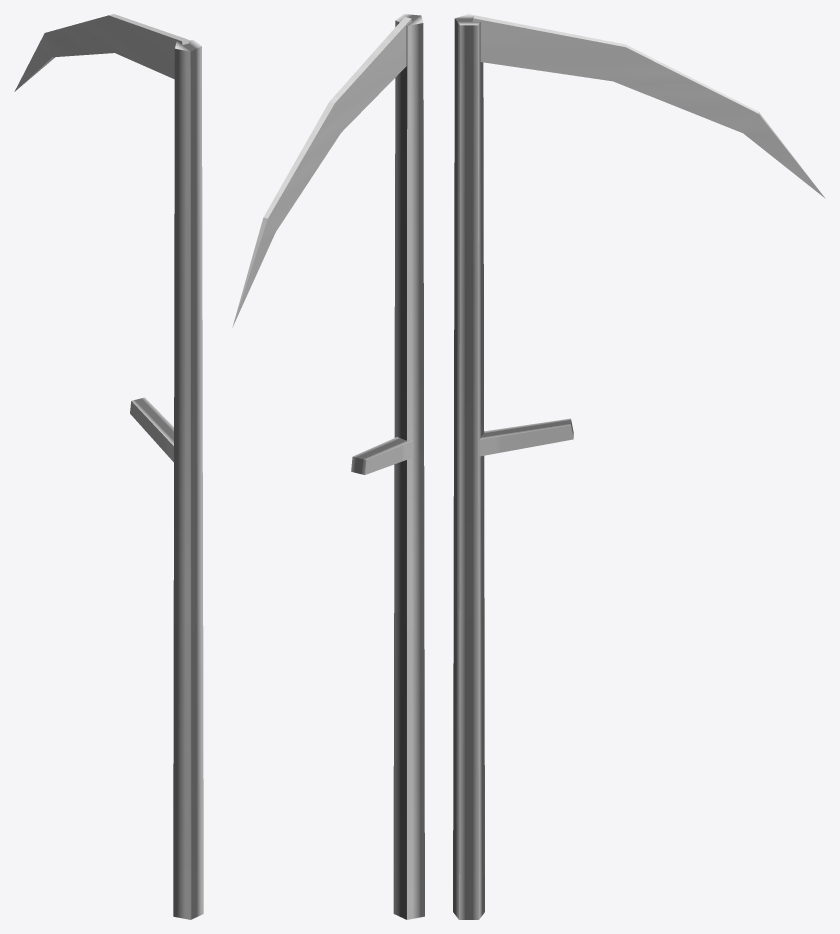
File: tool_scythe.obj
3 views of the same model, side by side, from view 1: azimuth 30°, elevation 25°; view 2: azimuth 150°, elevation 25°; view 3: azimuth 270°, elevation 25° (orthographic). The views are drawn at different scales.
Visible parts, largest first — view 1: tool_scythe; view 2: tool_scythe; view 3: tool_scythe.
Boxes of the visible parts, bbox=[...] form: tool_scythe: bbox=[14, 14, 203, 919]; tool_scythe: bbox=[232, 14, 424, 919]; tool_scythe: bbox=[453, 14, 825, 919].
Size of the model in its own units: 0.0326 by 1.05 by 0.3971.
